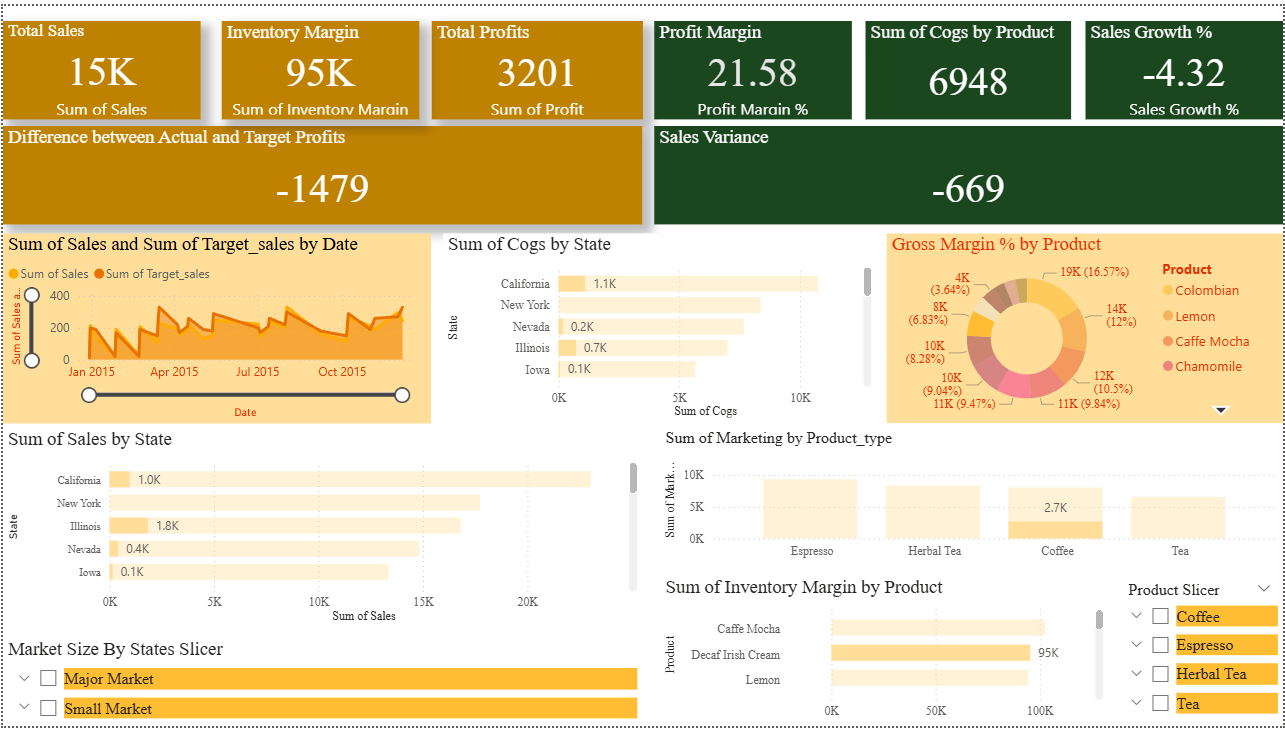

This screenshot's page, from the dashboard's own definition file:
{"tool":"powerbi","page":{"name":"Page 1","canvas":[1280,720],"ordinal":0},"visuals":[{"type":"card","title":"Total Sales","fields":{"Values":["Sum(Coffee_Chain_Sales.Sales)"]},"box":[0,15.1,197.6,98.8],"z":0},{"type":"card","title":"Total Profits","fields":{"Values":["Sum(Coffee_Chain_Sales.Profit)"]},"box":[428.1,15.1,211.3,98.8],"z":1000},{"type":"card","title":"Difference between Actual and Target Profits","fields":{"Values":["Sum(Coffee_Chain_Sales.DifferenceBetweenActualandTargetProfit)"]},"box":[0,119.4,639.5,98.8],"z":2000},{"type":"kpi","fields":{"Indicator":["Sum(Coffee_Chain_Sales.Cogs)"],"TrendLine":["Coffee_Chain_Sales.Product"]},"box":[863.1,15.1,205.8,98.8],"z":3000},{"type":"card","title":"Inventory Margin","fields":{"Values":["Sum(Coffee_Chain_Sales.Inventory Margin)"]},"box":[218.2,15.1,197.6,98.8],"z":4000},{"type":"card","title":" Sales Variance","fields":{"Values":["Coffee_Chain_Sales.Planned_V/S_Actual_Variance"]},"box":[651.2,120,628.8,98.8],"z":5000},{"type":"card","title":"Sales Growth %","fields":{"Values":["Coffee_Chain_Sales.Sales Growth %"]},"box":[1082.7,15.1,197.6,98.8],"z":6000},{"type":"card","title":"Profit Margin","fields":{"Values":["Coffee_Chain_Sales.Profit Margin %"]},"box":[651.8,15.1,197.6,98.8],"z":7000},{"type":"lineChart","fields":{"Y":["Sum(Coffee_Chain_Sales.Sales)","Sum(Coffee_Chain_Sales.Target_sales )"],"Category":["Coffee_Chain_Sales.Date"]},"box":[0,227.8,428.1,189.4],"z":8000},{"type":"donutChart","fields":{"Y":["Coffee_Chain_Sales.Gross Margin %"],"Category":["Coffee_Chain_Sales.Product"]},"box":[883.7,227.8,396.6,189.4],"z":9000},{"type":"barChart","fields":{"Y":["Sum(Coffee_Chain_Sales.Sales)"],"Category":["Coffee_Chain_Sales.State"]},"box":[0,422.6,639.5,199],"z":10000},{"type":"clusteredBarChart","fields":{"Y":["Sum(Coffee_Chain_Sales.Cogs)"],"Category":["Coffee_Chain_Sales.State"]},"box":[440.5,227.8,433.6,189.4],"z":11000},{"type":"slicer","fields":{"Values":["Coffee_Chain_Sales.Product_type","Coffee_Chain_Sales.Product_line","Coffee_Chain_Sales.Product"]},"box":[1112.5,570,167.5,150],"z":12000},{"type":"slicer","title":"Market Size By States Slicer","fields":{"Values":["Coffee_Chain_Sales.Market_size","Coffee_Chain_Sales.State"]},"box":[0,632.6,639.5,87.8],"z":13000},{"type":"columnChart","fields":{"Category":["Coffee_Chain_Sales.Product_type"],"Y":["Sum(Coffee_Chain_Sales.Marketing)"]},"box":[657.3,422.6,623,137.2],"z":14000},{"type":"barChart","fields":{"Category":["Coffee_Chain_Sales.Product"],"Y":["Sum(Coffee_Chain_Sales.Inventory Margin)"]},"box":[657,570,448,150],"z":15000}]}

Visuals, with their boxes in screenshot pixels (x1, y1, x2, y2), scaled from the page's 1280x720 canvas onto the 1285x732 screenshot:
"Total Sales" card: locate(0, 15, 198, 116)
"Total Profits" card: locate(430, 15, 642, 116)
"Difference between Actual and Target Profits" card: locate(0, 121, 642, 222)
kpi - Sum(Coffee_Chain_Sales.Cogs) x Coffee_Chain_Sales.Product: locate(866, 15, 1073, 116)
"Inventory Margin" card: locate(219, 15, 417, 116)
" Sales Variance" card: locate(654, 122, 1284, 222)
"Sales Growth %" card: locate(1087, 15, 1284, 116)
"Profit Margin" card: locate(654, 15, 853, 116)
lineChart - Sum(Coffee_Chain_Sales.Sales) x Sum(Coffee_Chain_Sales.Target_sales ): locate(0, 232, 430, 424)
donutChart - Coffee_Chain_Sales.Gross Margin % x Coffee_Chain_Sales.Product: locate(887, 232, 1284, 424)
barChart - Sum(Coffee_Chain_Sales.Sales) x Coffee_Chain_Sales.State: locate(0, 430, 642, 632)
clusteredBarChart - Sum(Coffee_Chain_Sales.Cogs) x Coffee_Chain_Sales.State: locate(442, 232, 878, 424)
slicer - Coffee_Chain_Sales.Product_type x Coffee_Chain_Sales.Product_line: locate(1117, 580, 1284, 731)
"Market Size By States Slicer" slicer: locate(0, 643, 642, 731)
columnChart - Coffee_Chain_Sales.Product_type x Sum(Coffee_Chain_Sales.Marketing): locate(660, 430, 1284, 569)
barChart - Coffee_Chain_Sales.Product x Sum(Coffee_Chain_Sales.Inventory Margin): locate(660, 580, 1109, 731)
